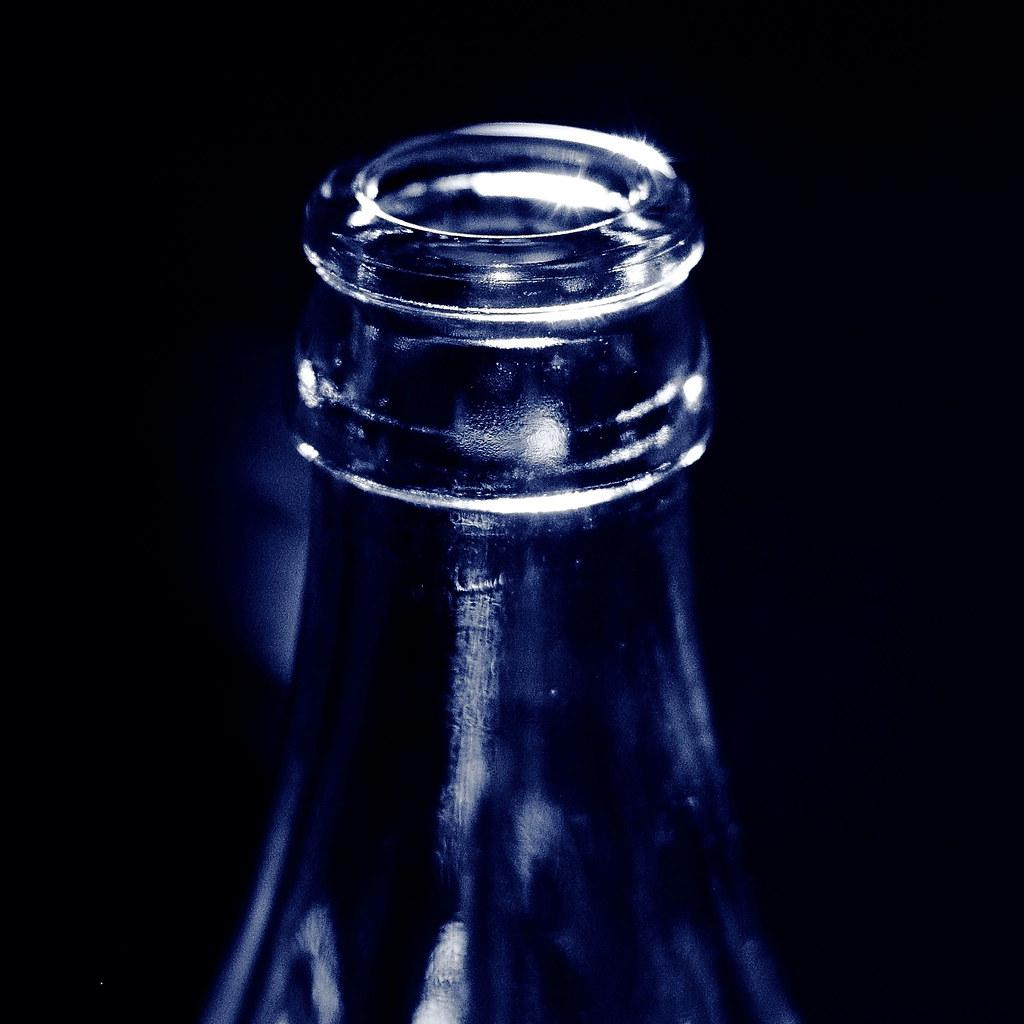bottle: (199, 120, 804, 1023)
